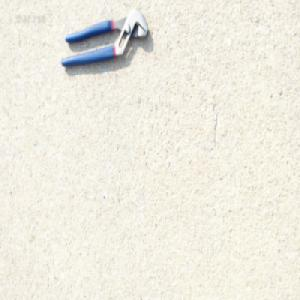Pliers: (60, 7, 149, 69)
